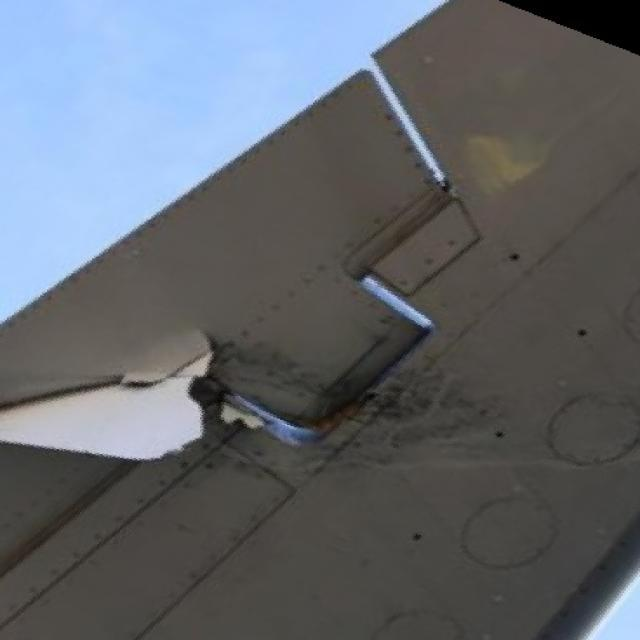crack: (3, 333, 235, 467)
